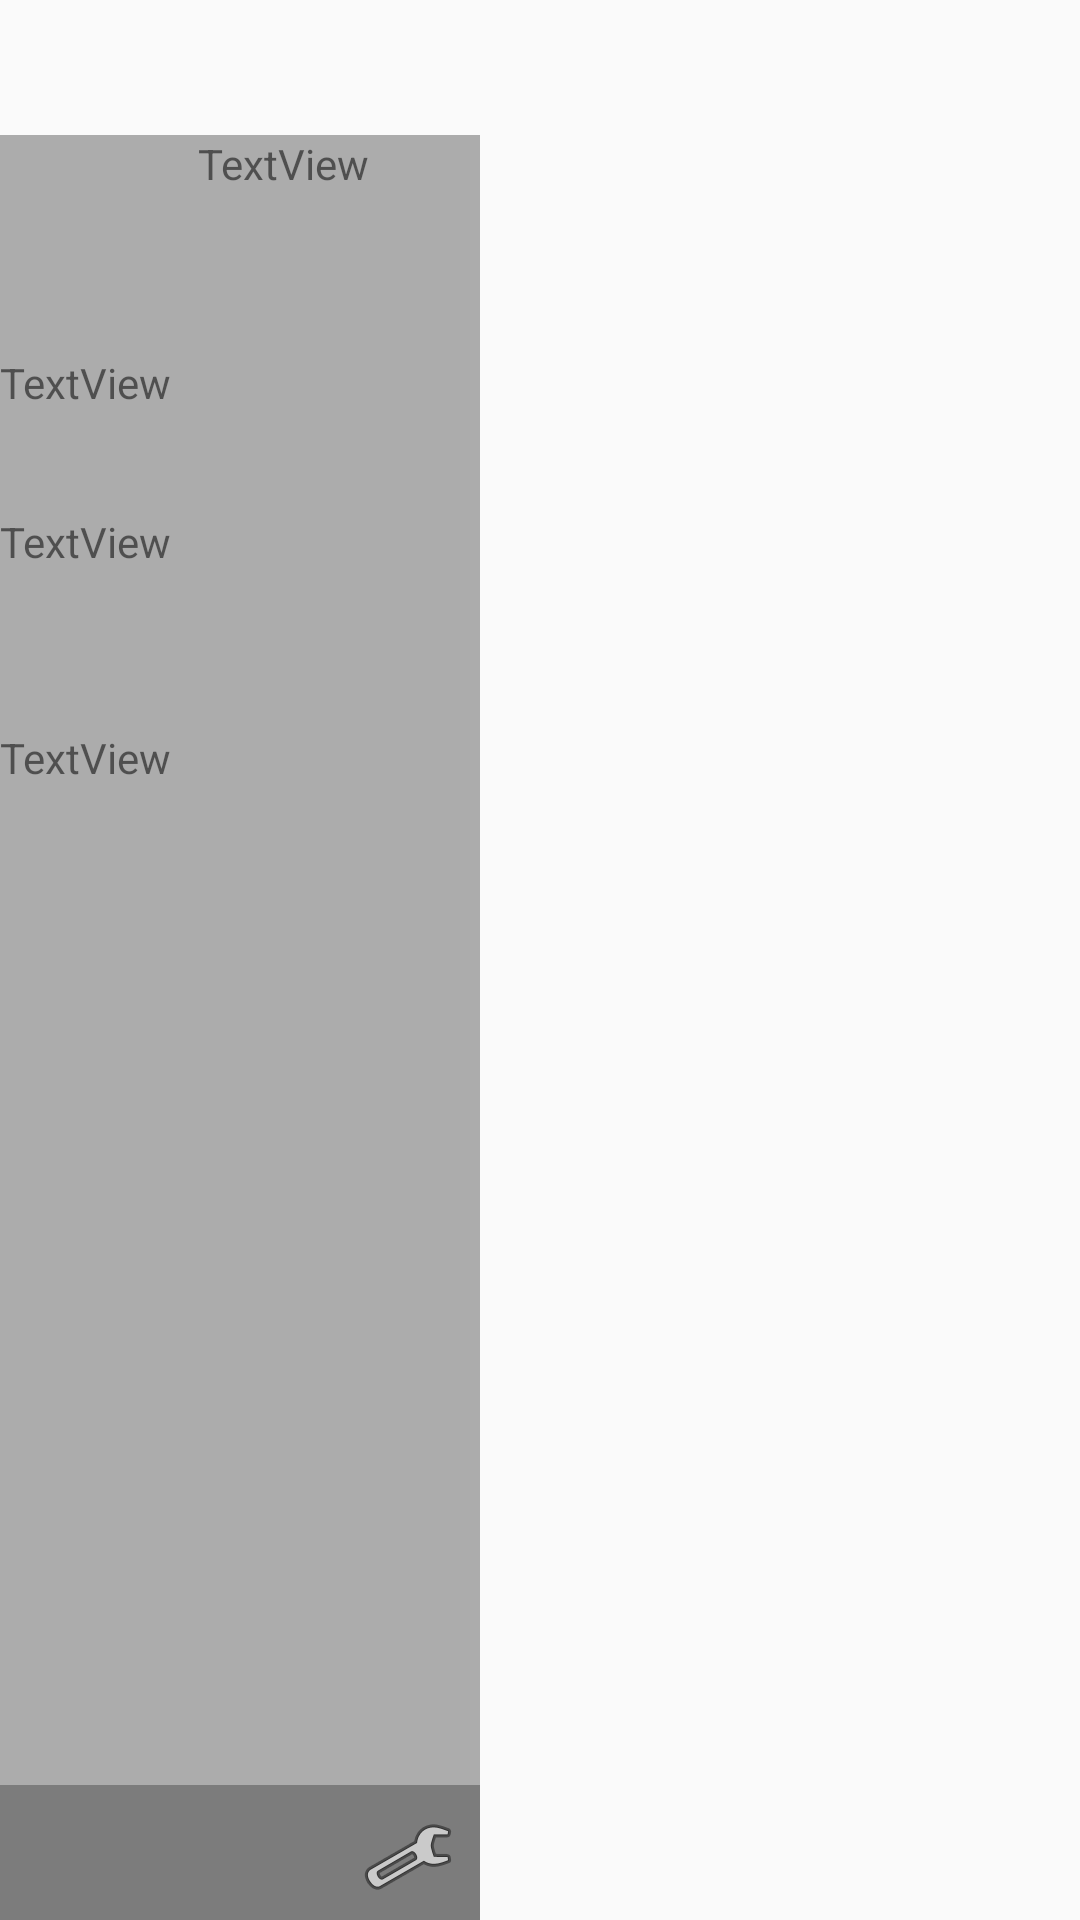

Screen size 1080×1920. Icon name, then its center in pixels as (x=x, y=y):
manage: (x=408, y=1857)
